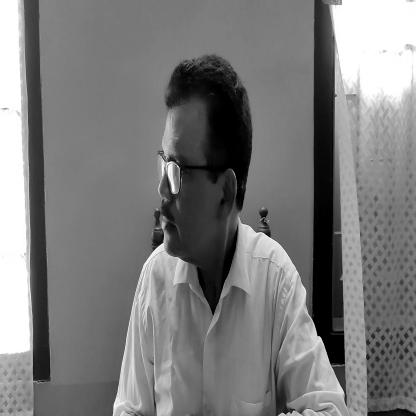Distracted: (155, 61, 257, 271)
